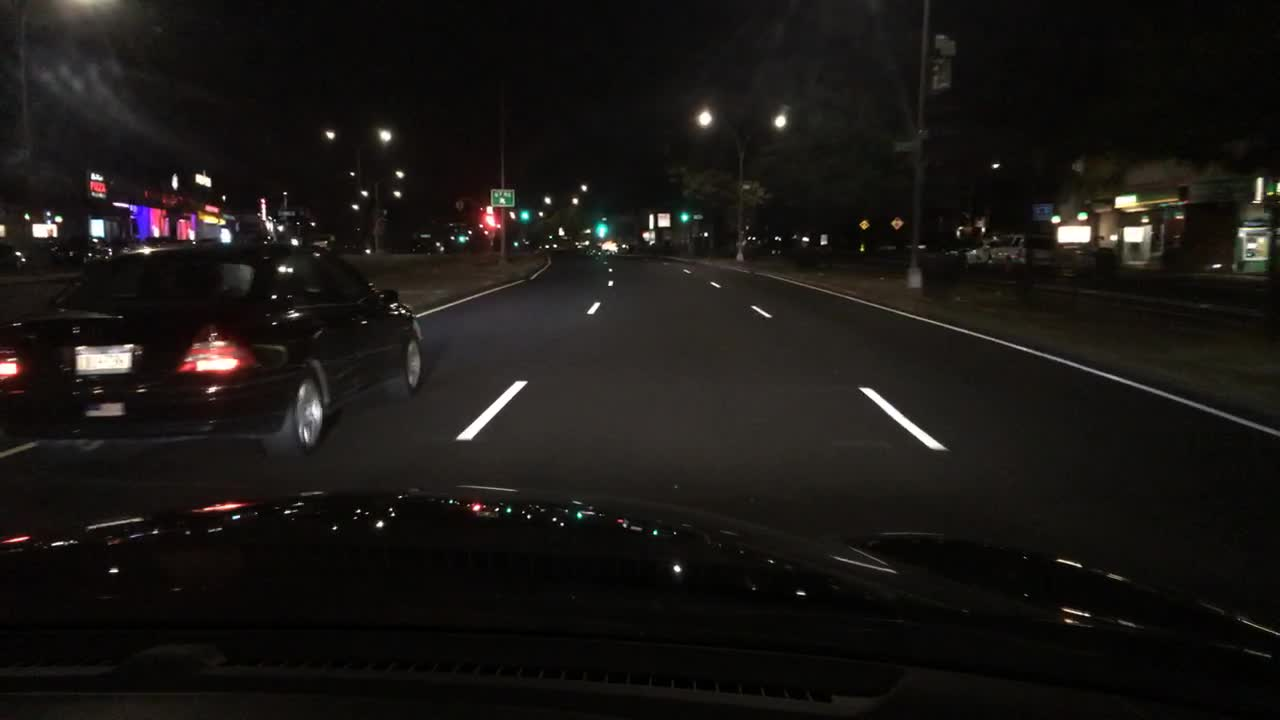car: (0, 243, 425, 466), (983, 232, 1051, 266), (940, 228, 994, 265), (60, 235, 112, 264), (33, 240, 79, 268), (117, 236, 192, 251), (0, 241, 30, 272), (310, 240, 344, 255), (240, 233, 274, 246), (416, 240, 446, 254), (586, 244, 605, 259), (198, 235, 219, 247), (280, 236, 301, 246)
traffic light: (593, 217, 609, 242), (516, 207, 535, 227), (677, 209, 692, 231)
traffic sign: (490, 188, 515, 208), (1036, 203, 1053, 221), (658, 214, 672, 226), (891, 215, 902, 229), (859, 218, 871, 229), (281, 210, 295, 215)
